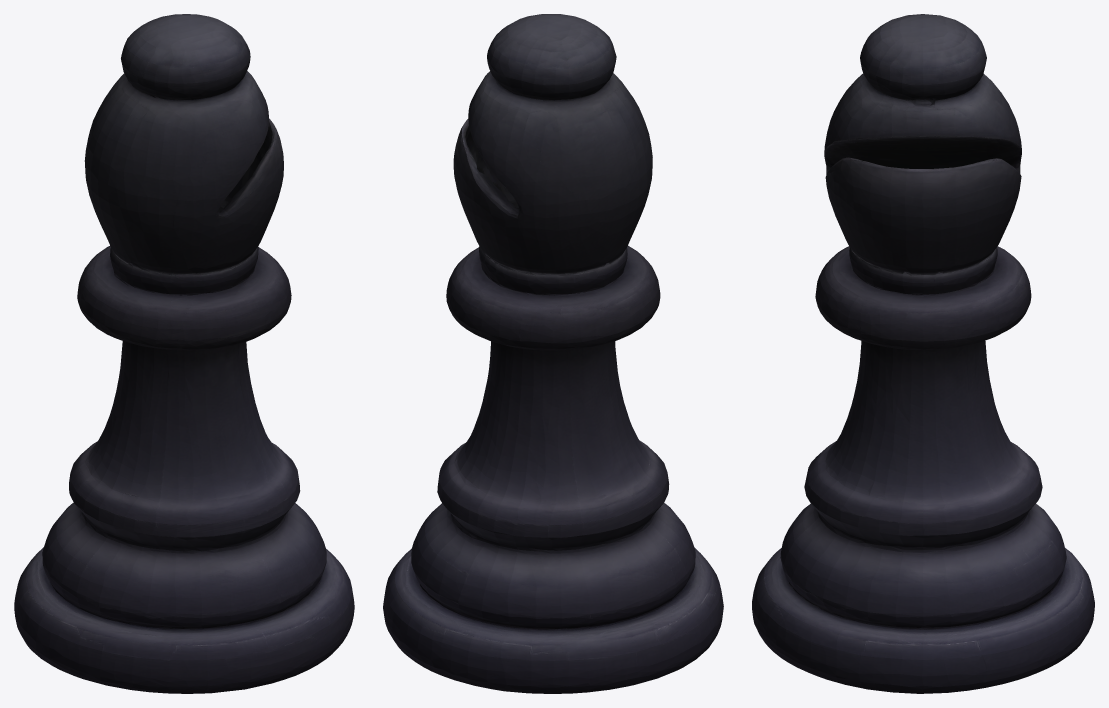
File: Bishop.glb
The picture shows the model from 3 angles, left to right: view 1: azimuth 30°, elevation 25°; view 2: azimuth 150°, elevation 25°; view 3: azimuth 270°, elevation 25°; orthographic projection.
Visible parts, largest first — view 1: world; view 2: world; view 3: world.
Part boxes in pixels (left/top/right/bottom): world: left=14, top=14, right=354, bottom=693; world: left=383, top=14, right=723, bottom=693; world: left=752, top=14, right=1094, bottom=693.
Bounding box in the file's own units: 0.516 × 1 × 0.5168.
Materials: 1 (1 with a texture image).
